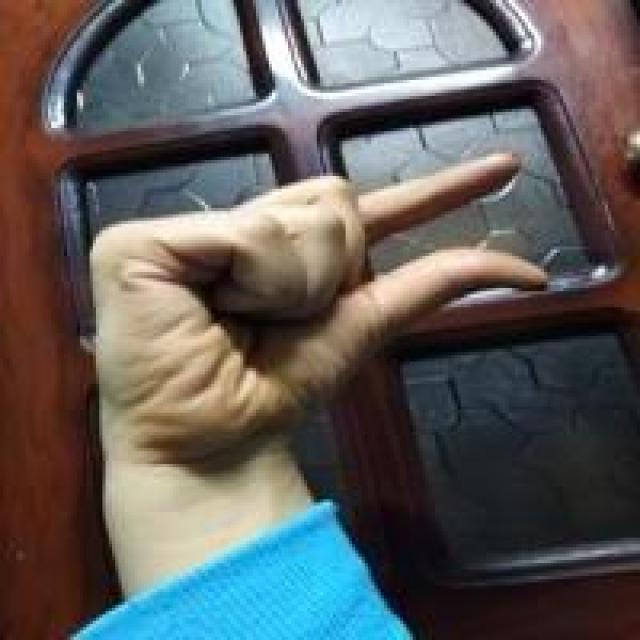G: (78, 146, 556, 424)
